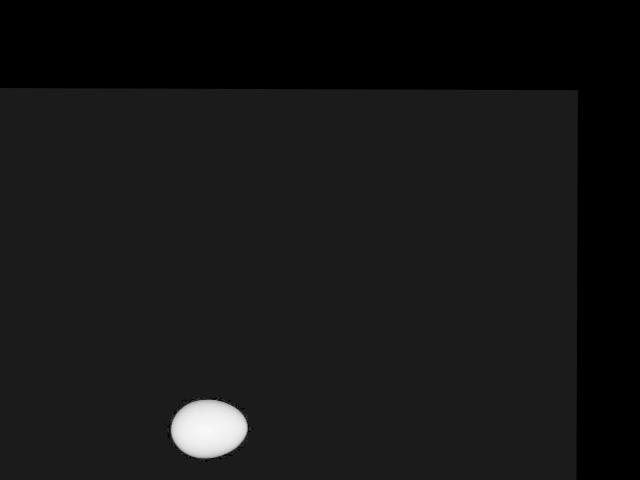egg: (170, 398, 246, 457)
